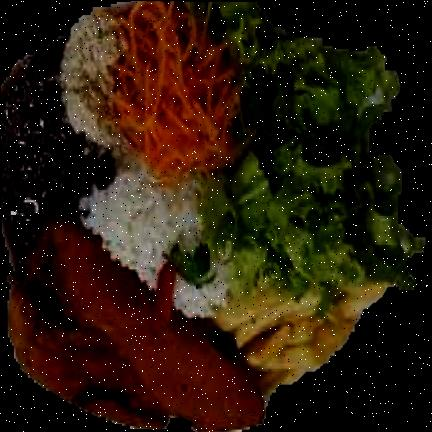beans: (1, 42, 113, 225)
carrot: (113, 1, 242, 185)
chicken: (10, 223, 264, 429)
potato: (214, 286, 386, 396)
rice: (79, 162, 202, 290), (176, 271, 228, 318)
salad: (202, 2, 424, 309)
